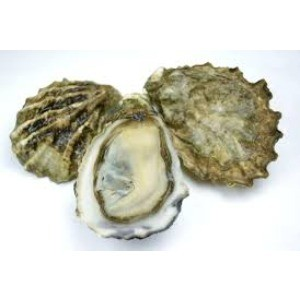oyster_brain food: (76, 102, 188, 240)
